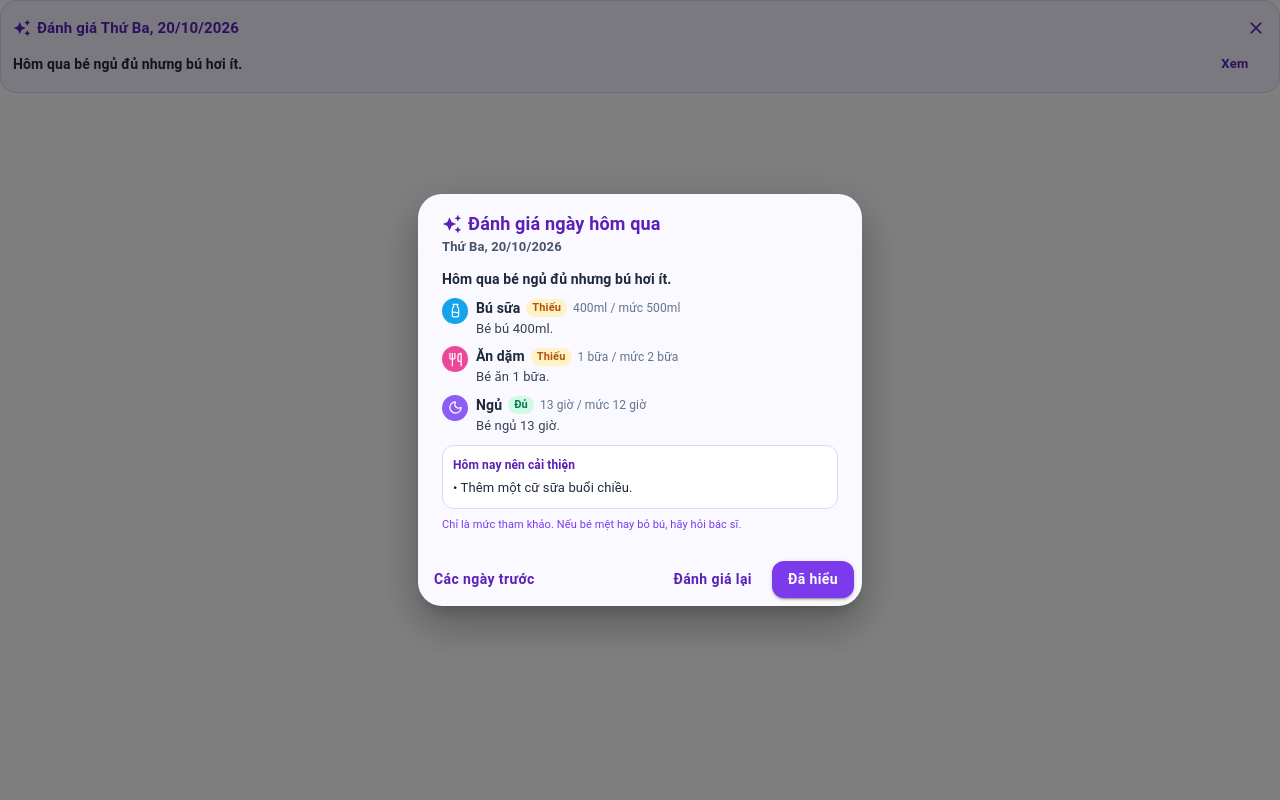
Scenario: DailyReviewCard › pops up a new review once, then keeps it as a small notification on Home
Click the button "Đã hiểu" at (813, 580), box x1=772 y1=561 x2=854 y2=598
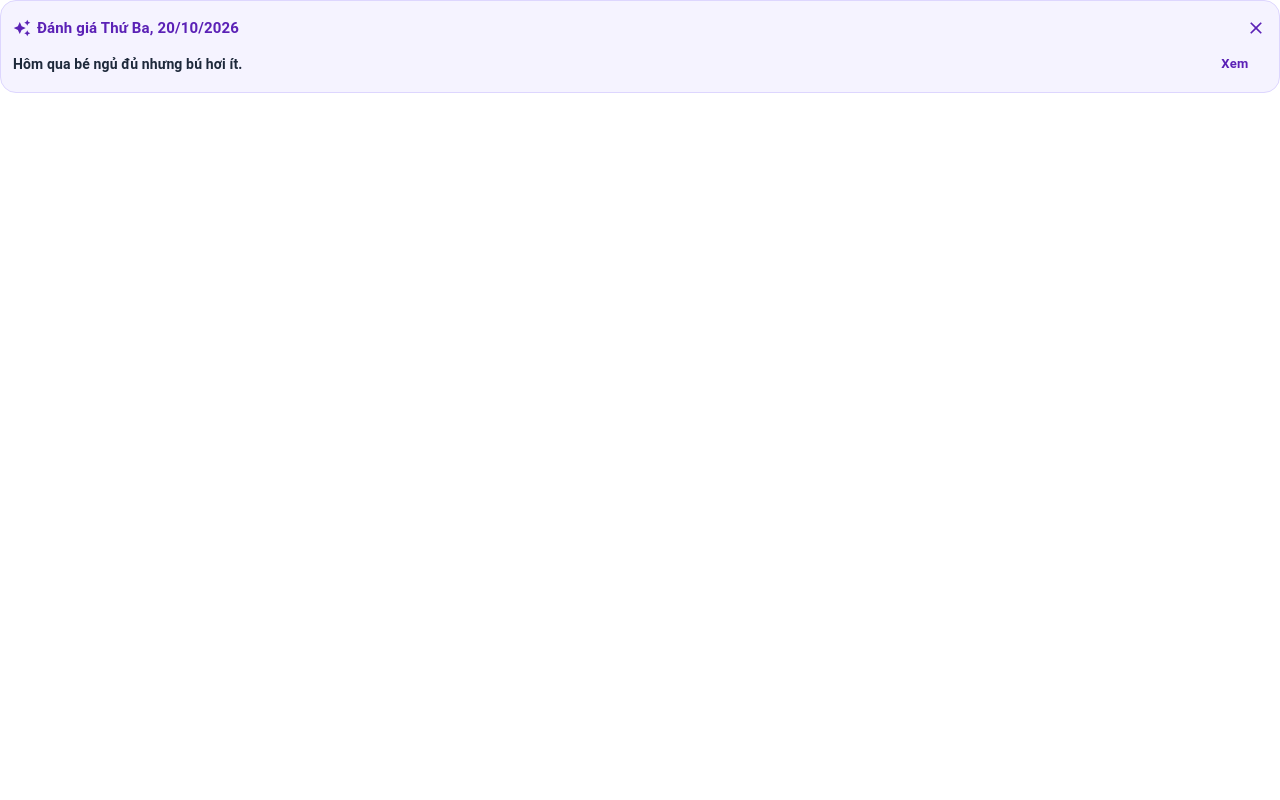
Expected: the text "Hôm qua bé ngủ đủ nhưng bú hơi ít." is shown, x1=13 y1=56 x2=242 y2=72
Expected: the dialog is gone
